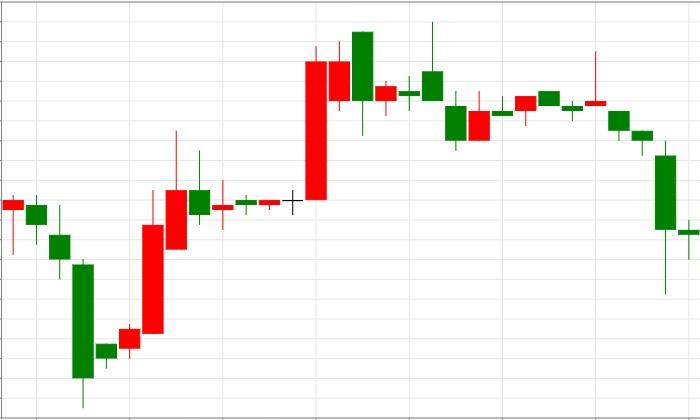bearish_engulfing_fall: (118, 31, 373, 358)
